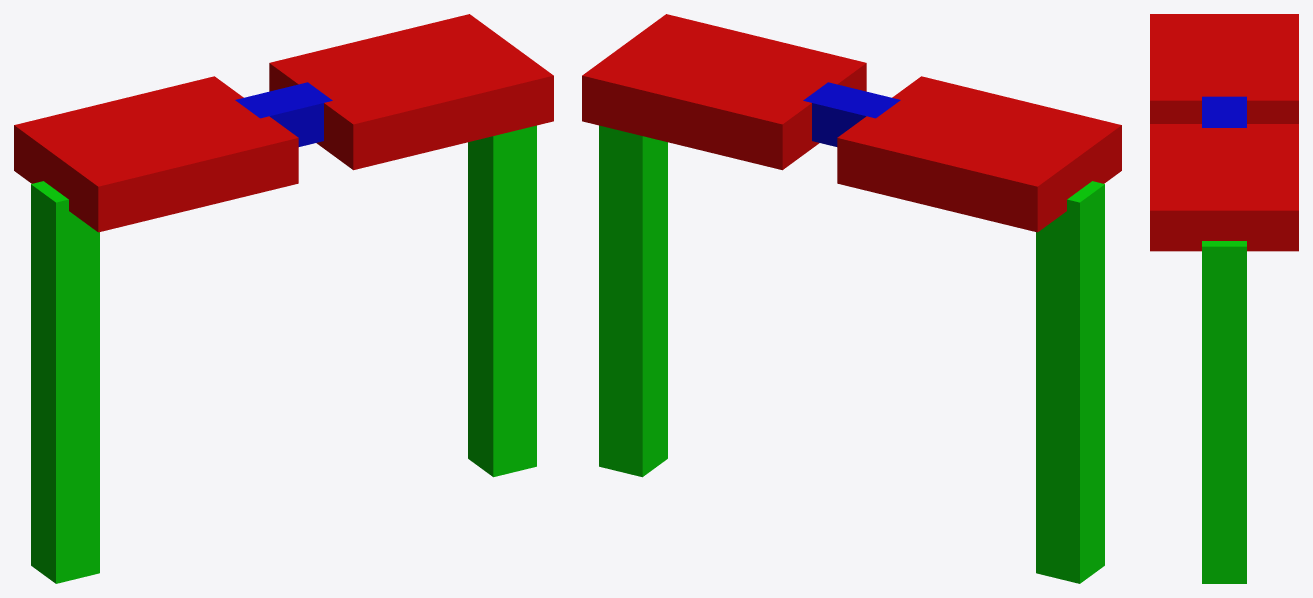
The model's file is SM_DG_Eyewear_ProxySport01.fbx.
3 views of the same model, side by side, from view 1: azimuth 30°, elevation 25°; view 2: azimuth 150°, elevation 25°; view 3: azimuth 270°, elevation 25° (orthographic). The views are drawn at different scales.
Visible parts, largest first — view 1: DG_OUTFIT_SM_DG_Eyewear_ProxySport01; view 2: DG_OUTFIT_SM_DG_Eyewear_ProxySport01; view 3: DG_OUTFIT_SM_DG_Eyewear_ProxySport01.
Part boxes in pixels (<box>): DG_OUTFIT_SM_DG_Eyewear_ProxySport01: <box>14,14,553,583</box>; DG_OUTFIT_SM_DG_Eyewear_ProxySport01: <box>582,14,1121,583</box>; DG_OUTFIT_SM_DG_Eyewear_ProxySport01: <box>1150,14,1298,583</box>.
Bounding box in the file's own units: 0.132 × 0.04 × 0.109.
